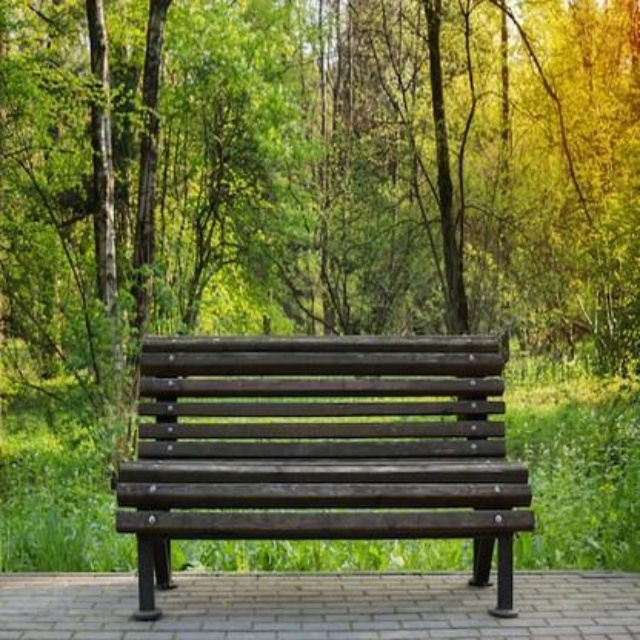obstacle: (92, 323, 549, 618)
